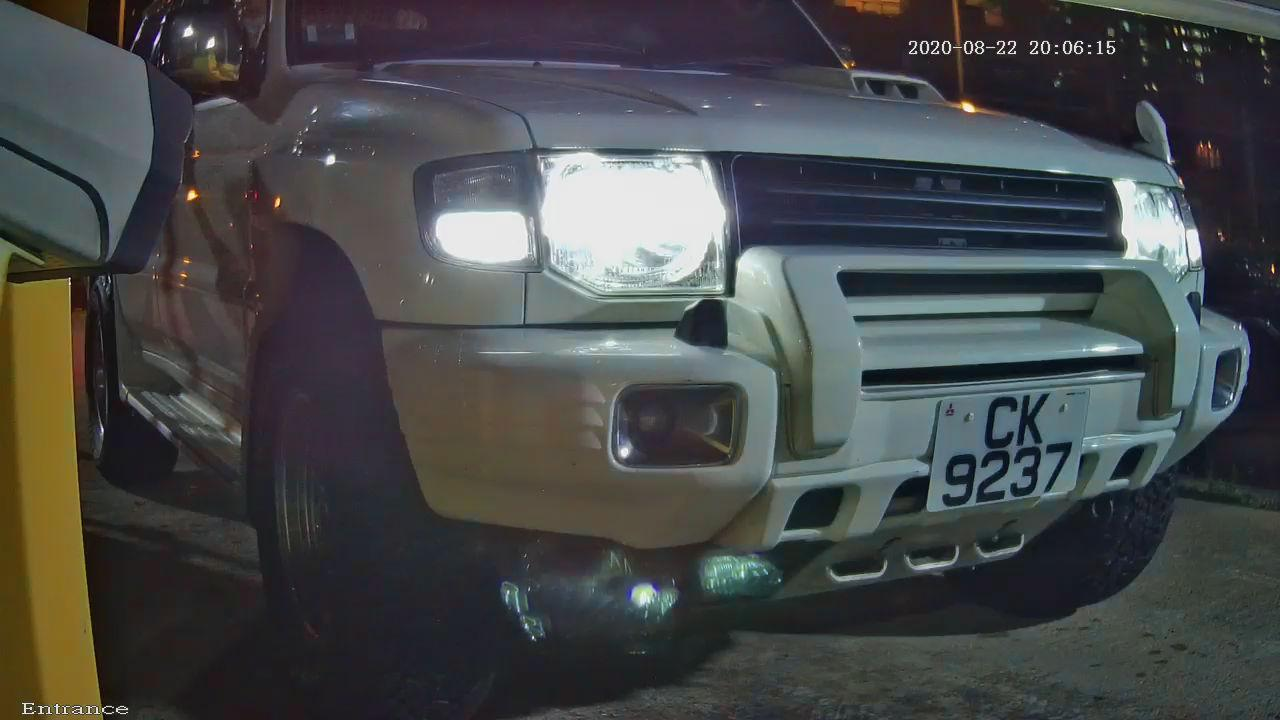License Plate: (898, 367, 1115, 537)
